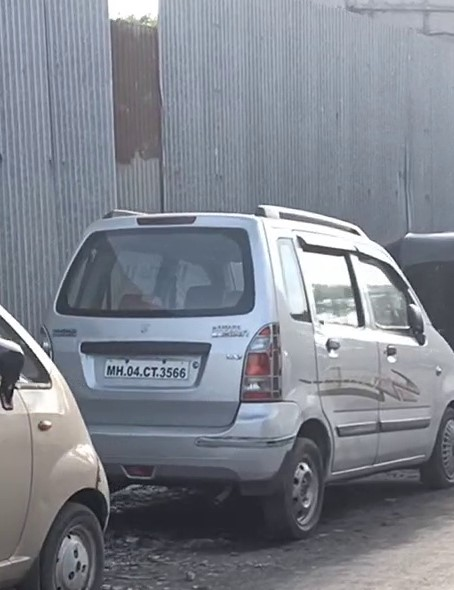MH04CT3566: (104, 359, 189, 381)
